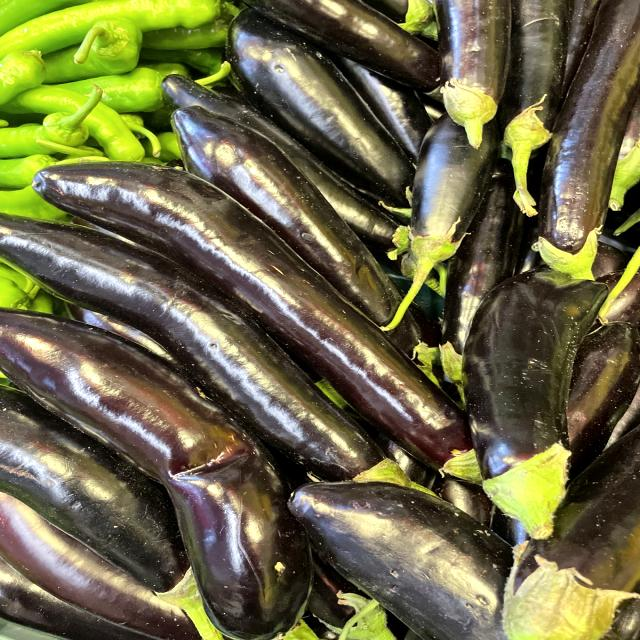eggplant: (31, 155, 517, 448), (459, 251, 628, 543), (365, 94, 511, 337), (423, 0, 528, 162)
